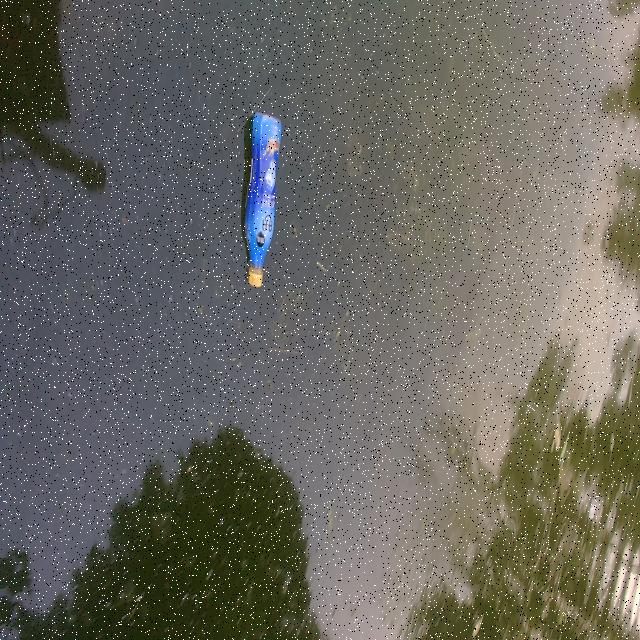Bottle: (242, 104, 284, 294)
